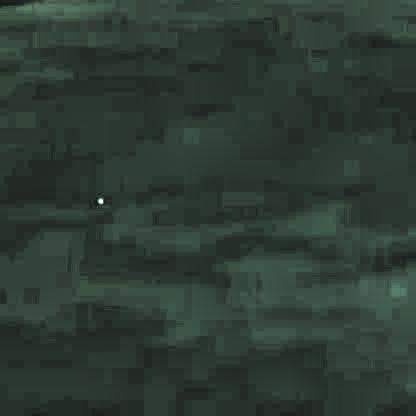golfball: (94, 195, 104, 202)
